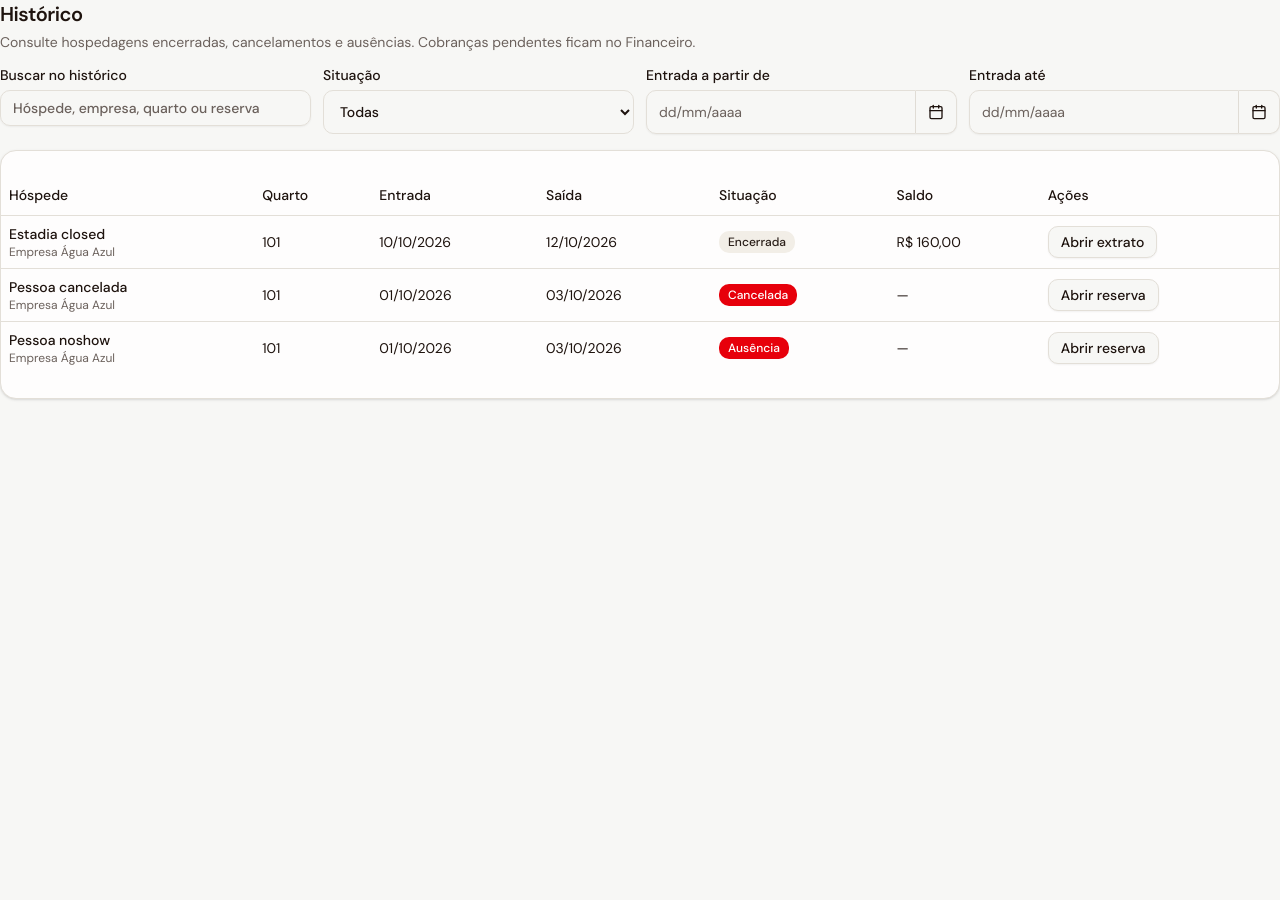
it: Histórico separado da operação › abre extrato completo da encerrada sem oferecer recebimento ou alteração
This screenshot has width=1280, height=900.
What coordinates should you click on to do the following:
click the button with aria-label "Ver detalhes de Estadia closed"
I would click on:
 (1103, 242)
Its box is [1048,226,1157,258].
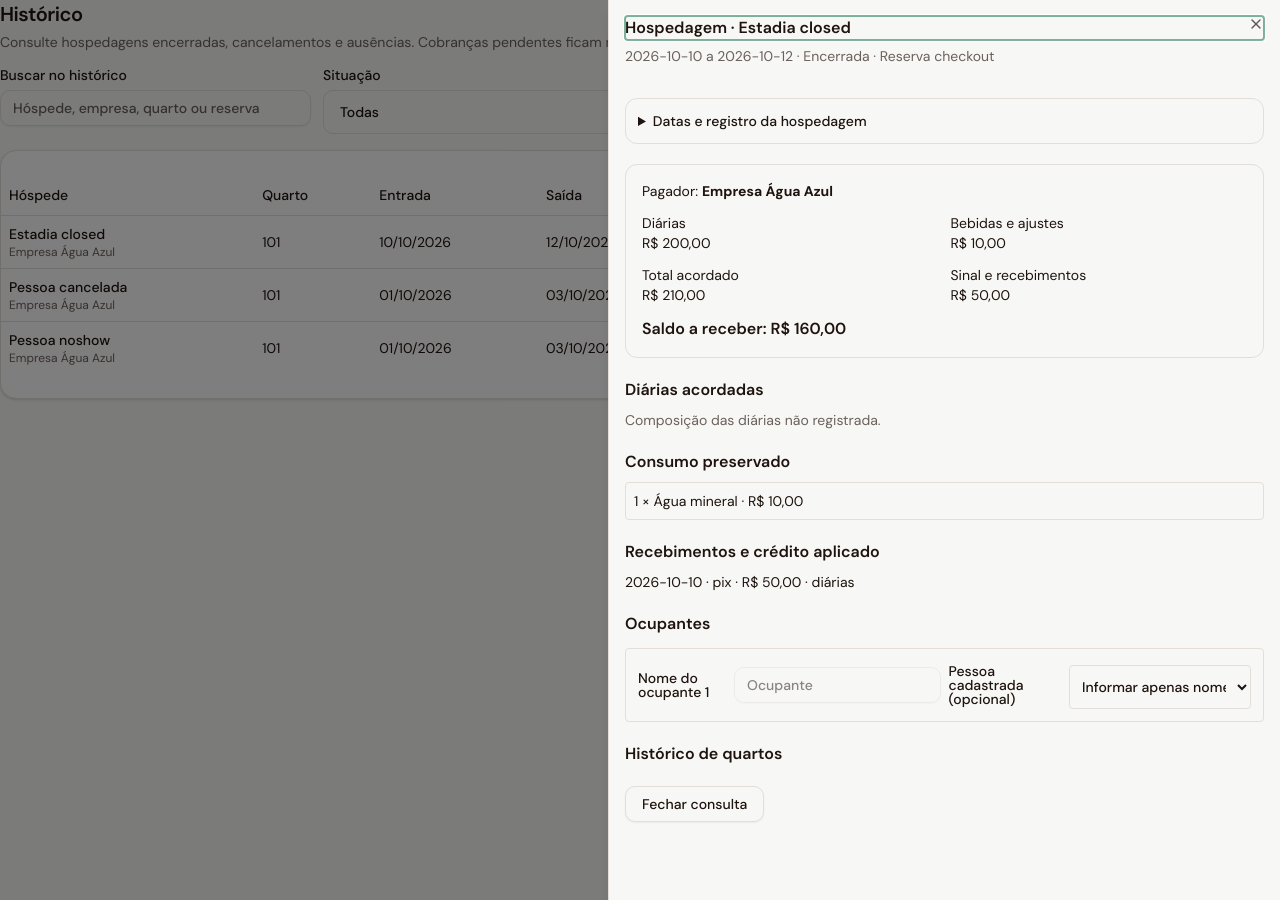
Check: the text "1 × Água mineral · R$ 10,00" is shown, box [634,492,803,510]
Check: the heading "Recebimentos e crédito aplicado" is shown, box [625,541,880,562]
